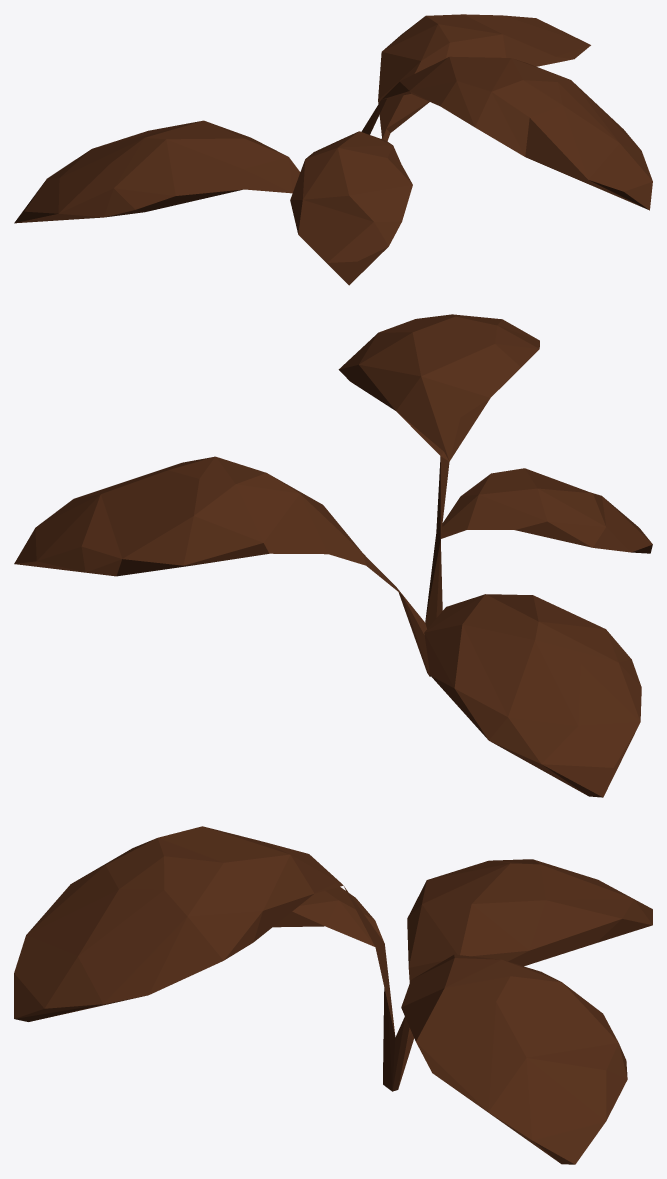
The model's file is ShrubLeavesLarge01.fbx.
3 renders of one model, top to bottom at view 1: azimuth 30°, elevation 25°; view 2: azimuth 150°, elevation 25°; view 3: azimuth 270°, elevation 25°, orthographic. The views are drawn at different scales.
Visible parts, largest first — view 1: ShrubLeavesLarge01; view 2: ShrubLeavesLarge01; view 3: ShrubLeavesLarge01.
Boxes of the visible parts, x1,y1,x2,y2 form: ShrubLeavesLarge01: [14, 14, 652, 285]; ShrubLeavesLarge01: [14, 314, 652, 797]; ShrubLeavesLarge01: [14, 826, 652, 1164].
Size of the model in its own units: 129 by 52.47 by 109.
